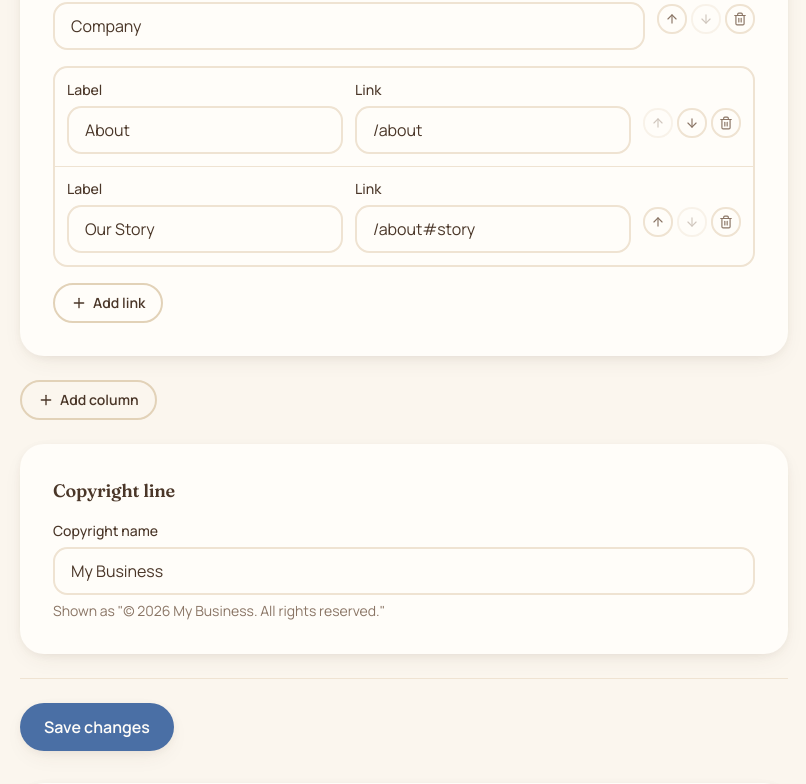
Test: FooterEditor › blocks saving a column with a title but zero links
The image size is (806, 784).
(page scrolled)
Click the button "Add column" at {"x": 88, "y": 400}, box [20, 380, 157, 420]
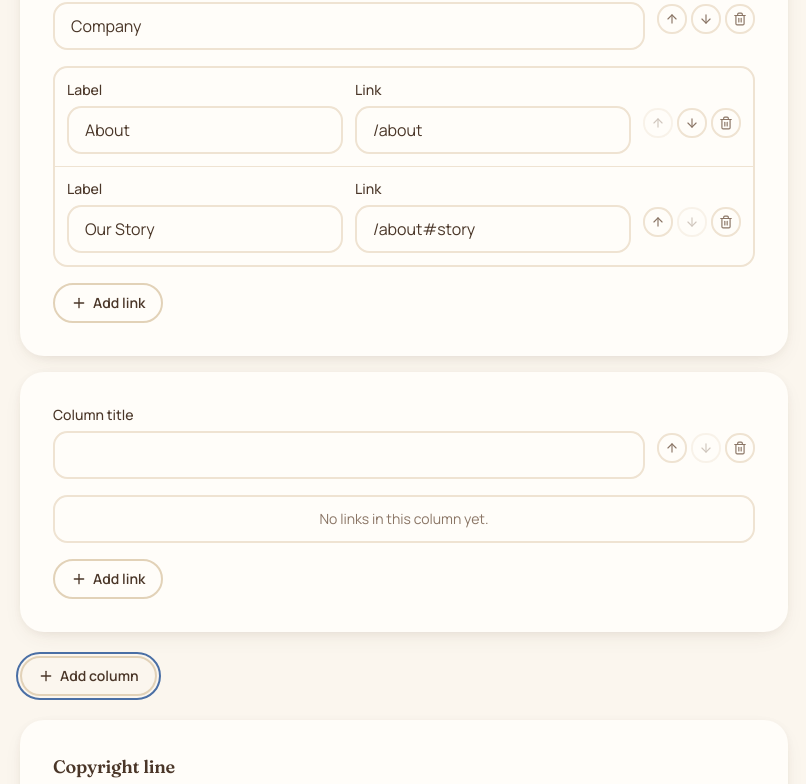
Type "Empty Column" into the 2nd field labelled "Column title" at {"x": 349, "y": 455}, box [53, 431, 645, 479]
(page scrolled)
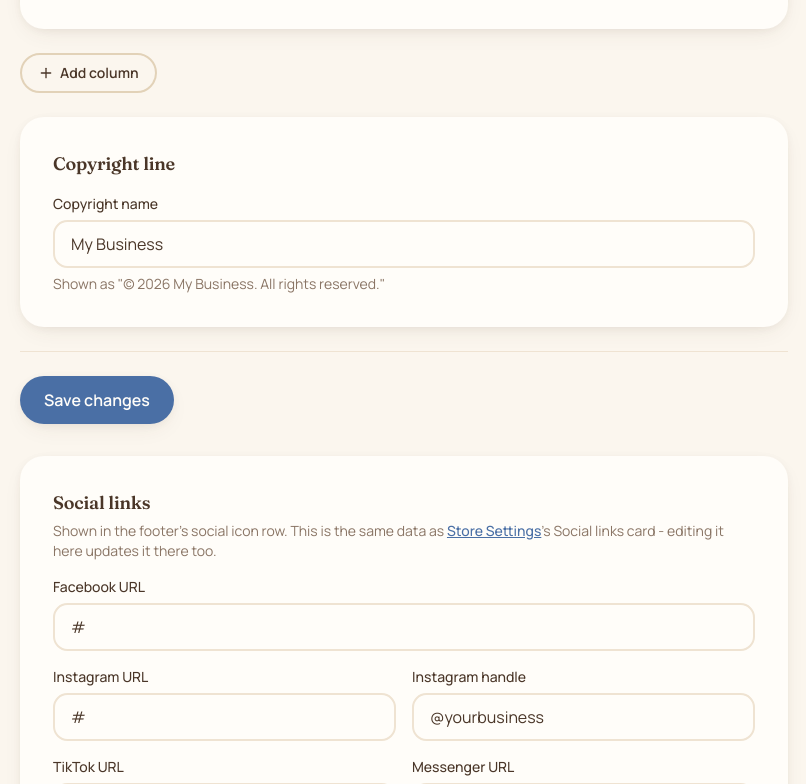
Click the button "Save changes" at {"x": 97, "y": 400}, box [20, 376, 174, 424]
(page scrolled)
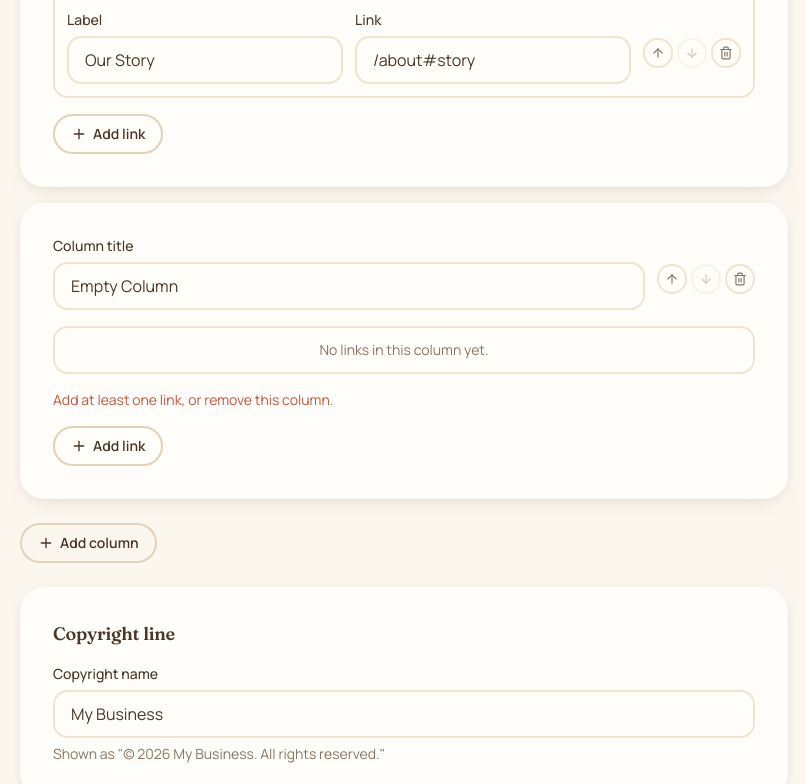
expect the text "Add at least one link, or remove this column." is shown: met, box [53, 390, 333, 409]
